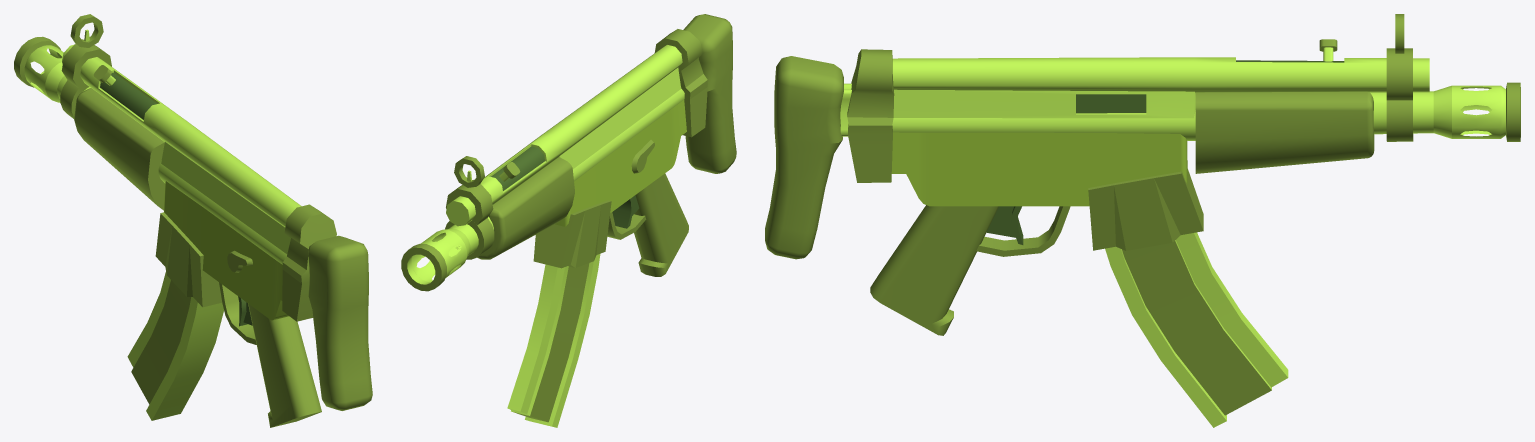
File: SM_Toy_P_Submachine.fbx
3 views of the same model, side by side, from view 1: azimuth 30°, elevation 25°; view 2: azimuth 150°, elevation 25°; view 3: azimuth 270°, elevation 25° (orthographic). The views are drawn at different scales.
Parts seen in each view (by area): view 1: SM_Toy_P_Submachine; view 2: SM_Toy_P_Submachine; view 3: SM_Toy_P_Submachine.
Part boxes in pixels (box(x1,y1,x2,y2)): SM_Toy_P_Submachine: box(14, 14, 372, 427); SM_Toy_P_Submachine: box(401, 14, 736, 427); SM_Toy_P_Submachine: box(765, 14, 1520, 427).
Size of the model in its own units: 46.69 by 293 by 498.
